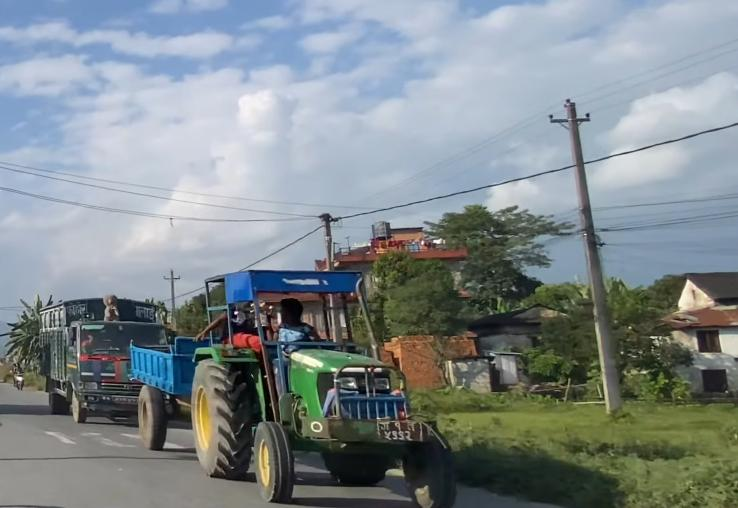tractor: (126, 264, 466, 508)
truck: (35, 293, 181, 423)
